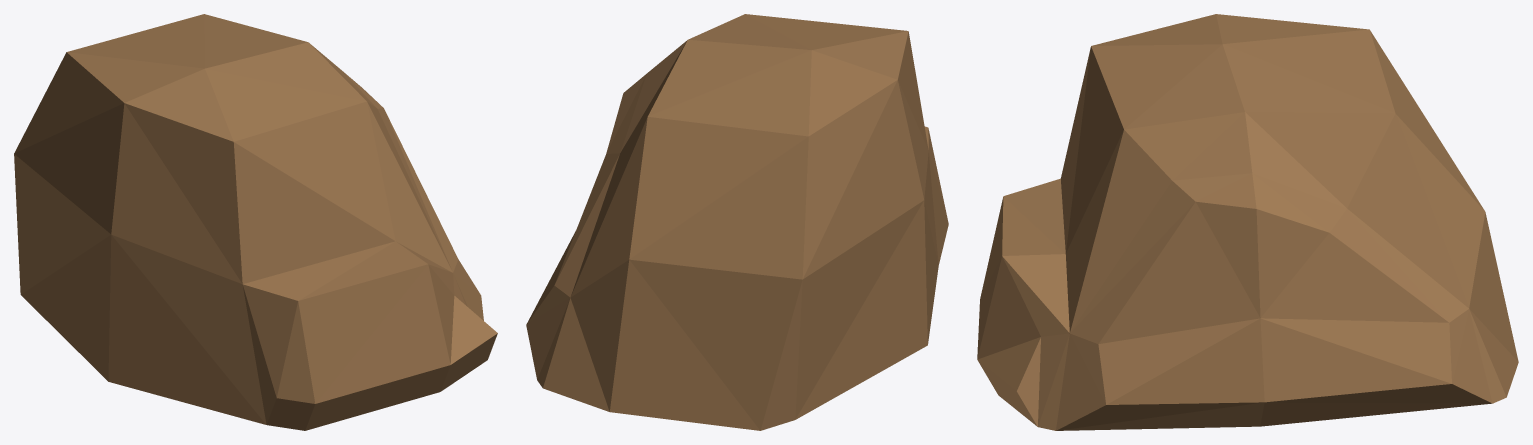
Rendered from rock_desert_2.glb.
3 renders of one model, left to right at view 1: azimuth 30°, elevation 25°; view 2: azimuth 150°, elevation 25°; view 3: azimuth 270°, elevation 25°, orthographic. The views are drawn at different scales.
Visible parts, largest first — view 1: lod0; view 2: lod0; view 3: lod0.
Boxes of the visible parts, left/top/right/bottom form: lod0: left=14, top=14, right=497, bottom=430; lod0: left=526, top=14, right=948, bottom=430; lod0: left=977, top=14, right=1518, bottom=430.
Size of what is drawn, in the model's own units: 1.59 by 1.45 by 2.19.
